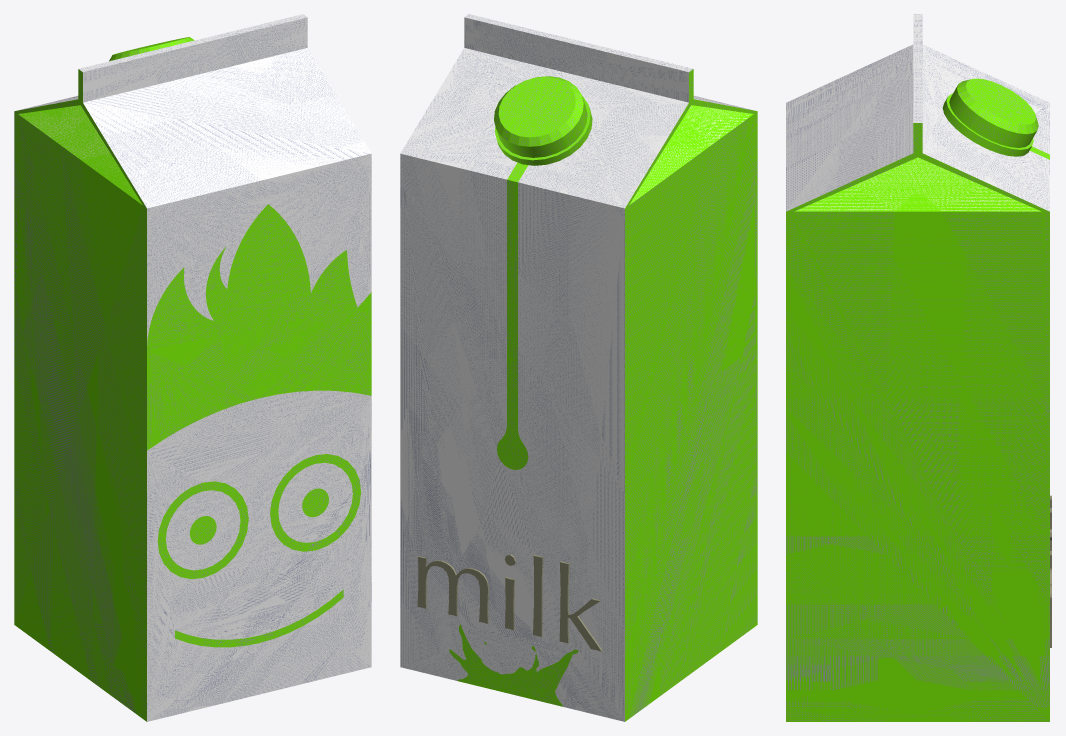
3 views of the same model, side by side, from view 1: azimuth 30°, elevation 25°; view 2: azimuth 150°, elevation 25°; view 3: azimuth 270°, elevation 25° (orthographic).
Visible parts, largest first — view 1: SketchUp (×11); view 2: SketchUp (×5), milk (×3); view 3: SketchUp (×4).
Part boxes in pixels (box(x1,y1,x2,y2)): SketchUp (×11): box(14, 14, 371, 721); SketchUp (×5): box(400, 14, 757, 721); milk (×3): box(417, 554, 602, 651); SketchUp (×4): box(786, 14, 1049, 721).
Bounding box in the file's own units: 119 × 122 × 304.
